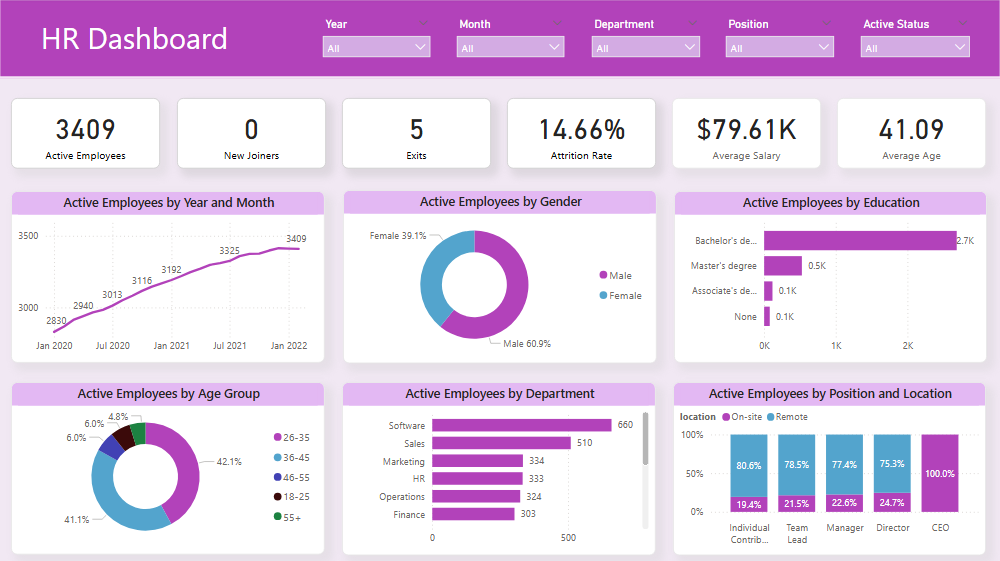

Layout of this report page (visuals, bound fields, positions):
{"tool":"powerbi","page":{"name":"Active  Employees","canvas":[1280,720],"ordinal":0},"visuals":[{"type":"shape","box":[0,0,1280,102.9],"z":0},{"type":"clusteredBarChart","title":"Active Employees by Department","fields":{"Category":["department_dim.department"],"Y":["_Measures.Active Employees T"]},"box":[439,489.9,400.2,220.6],"z":1000},{"type":"donutChart","title":"Active Employees by Age Group","fields":{"Category":["demographic_dim.Age Bucket"],"Y":["_Measures.Active Employees T"]},"box":[17.1,489,400,220],"z":2000},{"type":"lineChart","fields":{"Y":["_Measures.Active Employees T"],"Category":["Calendar.Date.Variation.Date Hierarchy.Year","Calendar.Date.Variation.Date Hierarchy.Month"]},"box":[17.2,245.9,400.2,219.3],"z":3000},{"type":"hundredPercentStackedColumnChart","title":"Active Employees by Position and Location","fields":{"Category":["job_level_dim.job_level"],"Series":["location_dim.location"],"Y":["_Measures.Active Employees T"]},"box":[861,489.9,398.9,220.6],"z":4000},{"type":"donutChart","title":"Active Employees by Gender","fields":{"Category":["demographic_dim.gender"],"Y":["_Measures.Active Employees T"]},"box":[439.2,245.3,400.2,220.6],"z":5000},{"type":"clusteredBarChart","title":"Active Employees by Education","fields":{"Category":["education_dim.education"],"Y":["_Measures.Active Employees T"]},"box":[861.3,245.9,398.9,219.3],"z":6000},{"type":"card","fields":{"Values":["_Measures.Average Salary"]},"box":[859.4,127.5,190,90],"z":7000},{"type":"card","fields":{"Values":["_Measures.Average Age"]},"box":[1070,127.5,190,90],"z":8000},{"type":"slicer","fields":{"Values":["department_dim.department"]},"box":[746.7,19.9,157.7,67.4],"z":9000},{"type":"slicer","fields":{"Values":["job_level_dim.job_level"]},"box":[918.4,19.9,157.7,67.4],"z":10000},{"type":"slicer","fields":{"Values":["people__fact.employment_status"]},"box":[1090.1,19.9,159.2,67.4],"z":11000},{"type":"textbox","box":[50,20,290,67.1],"z":12000},{"type":"slicer","fields":{"Values":["Calendar.Month"]},"box":[575.5,20,157.1,67.1],"z":13000},{"type":"slicer","fields":{"Values":["Calendar.Date.Variation.Date Hierarchy.Year"]},"box":[404.3,20,157.1,67.1],"z":14000},{"type":"card","fields":{"Values":["_Measures.Starting Headcount"]},"box":[227.7,127.5,190,90],"z":15000},{"type":"card","fields":{"Values":["_Measures.Exits"]},"box":[438.3,127.5,190,90],"z":16000},{"type":"card","fields":{"Values":["_Measures.Active Employees test"]},"box":[17.2,127.5,190,90],"z":17000},{"type":"card","fields":{"Values":["_Measures.Attrition Rate"]},"box":[648.9,127.5,190,90],"z":18000}]}

Visuals, with their boxes in screenshot pixels (x1, y1, x2, y2), scaled from the page's 1280x720 canvas onto the 1000x561 screenshot:
shape: x1=0 y1=0 x2=999 y2=80
"Active Employees by Department" clusteredBarChart: x1=343 y1=382 x2=656 y2=554
"Active Employees by Age Group" donutChart: x1=13 y1=381 x2=326 y2=552
lineChart - _Measures.Active Employees T x Calendar.Date.Variation.Date Hierarchy.Year: x1=13 y1=192 x2=326 y2=362
"Active Employees by Position and Location" hundredPercentStackedColumnChart: x1=673 y1=382 x2=984 y2=554
"Active Employees by Gender" donutChart: x1=343 y1=191 x2=656 y2=363
"Active Employees by Education" clusteredBarChart: x1=673 y1=192 x2=985 y2=362
card - _Measures.Average Salary: x1=671 y1=99 x2=820 y2=169
card - _Measures.Average Age: x1=836 y1=99 x2=984 y2=169
slicer - department_dim.department: x1=583 y1=16 x2=707 y2=68
slicer - job_level_dim.job_level: x1=718 y1=16 x2=841 y2=68
slicer - people__fact.employment_status: x1=852 y1=16 x2=976 y2=68
textbox: x1=39 y1=16 x2=266 y2=68
slicer - Calendar.Month: x1=450 y1=16 x2=572 y2=68
slicer - Calendar.Date.Variation.Date Hierarchy.Year: x1=316 y1=16 x2=439 y2=68
card - _Measures.Starting Headcount: x1=178 y1=99 x2=326 y2=169
card - _Measures.Exits: x1=342 y1=99 x2=491 y2=169
card - _Measures.Active Employees test: x1=13 y1=99 x2=162 y2=169
card - _Measures.Attrition Rate: x1=507 y1=99 x2=655 y2=169
